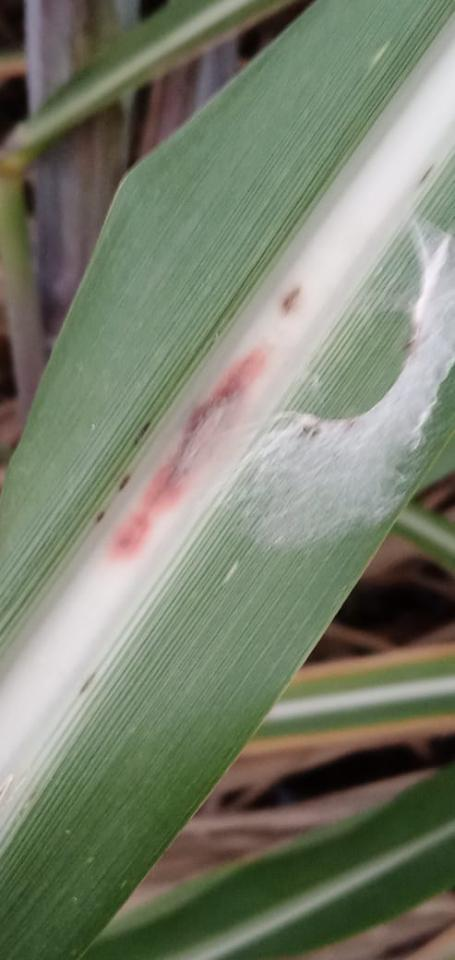RedRot: (111, 350, 265, 556), (280, 288, 301, 316)
